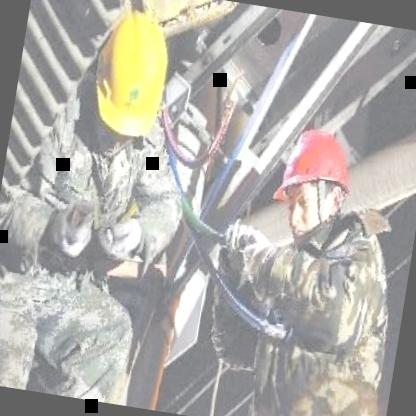helmet: (73, 1, 186, 168), (268, 120, 366, 243)
